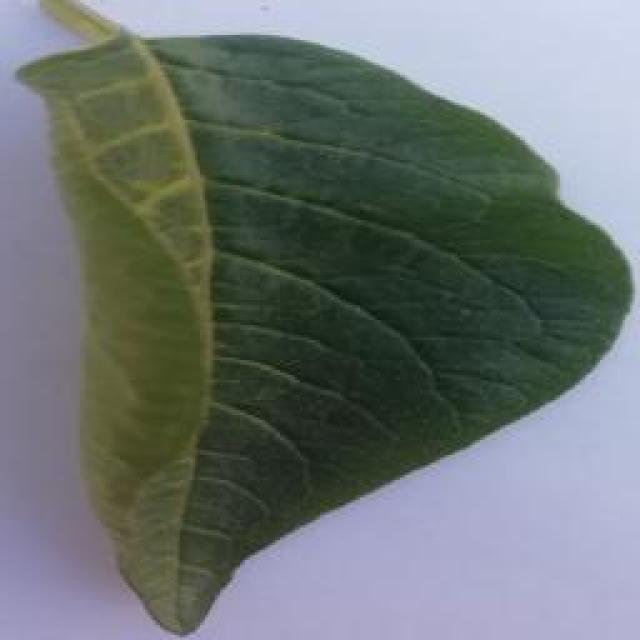Potato_Healthy: (15, 4, 622, 632)
